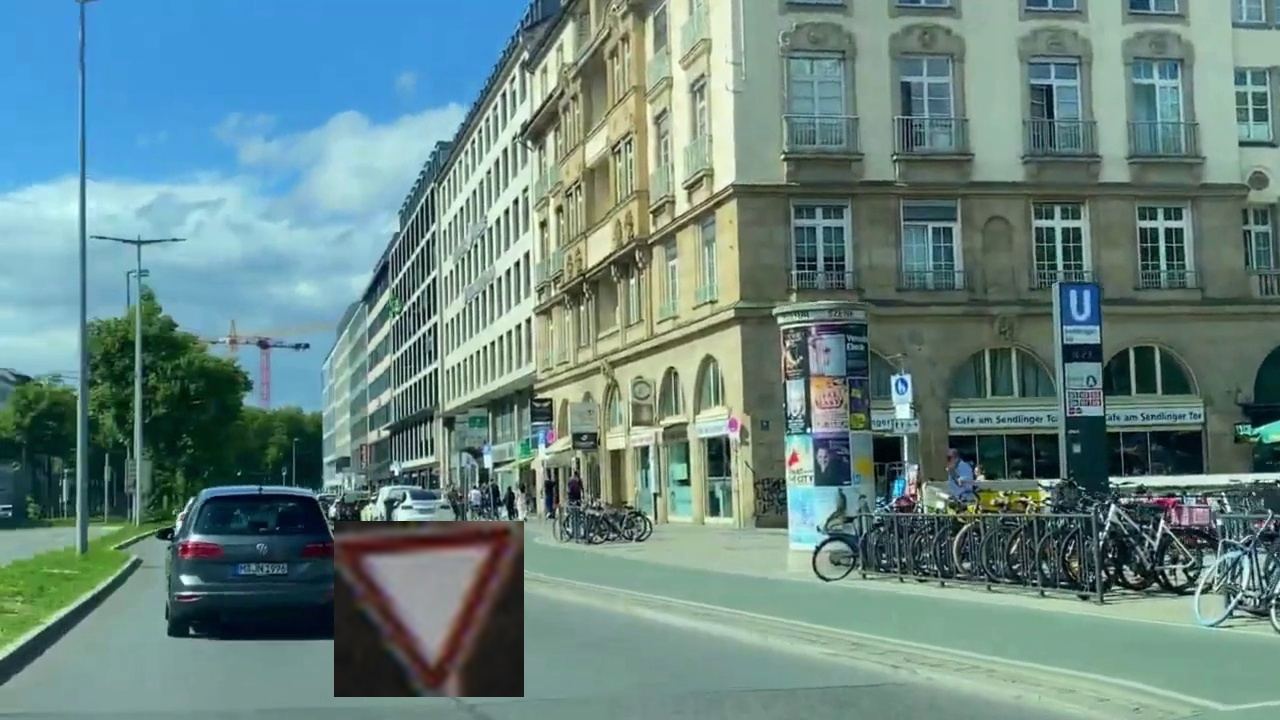Yield: (334, 521, 524, 697)
